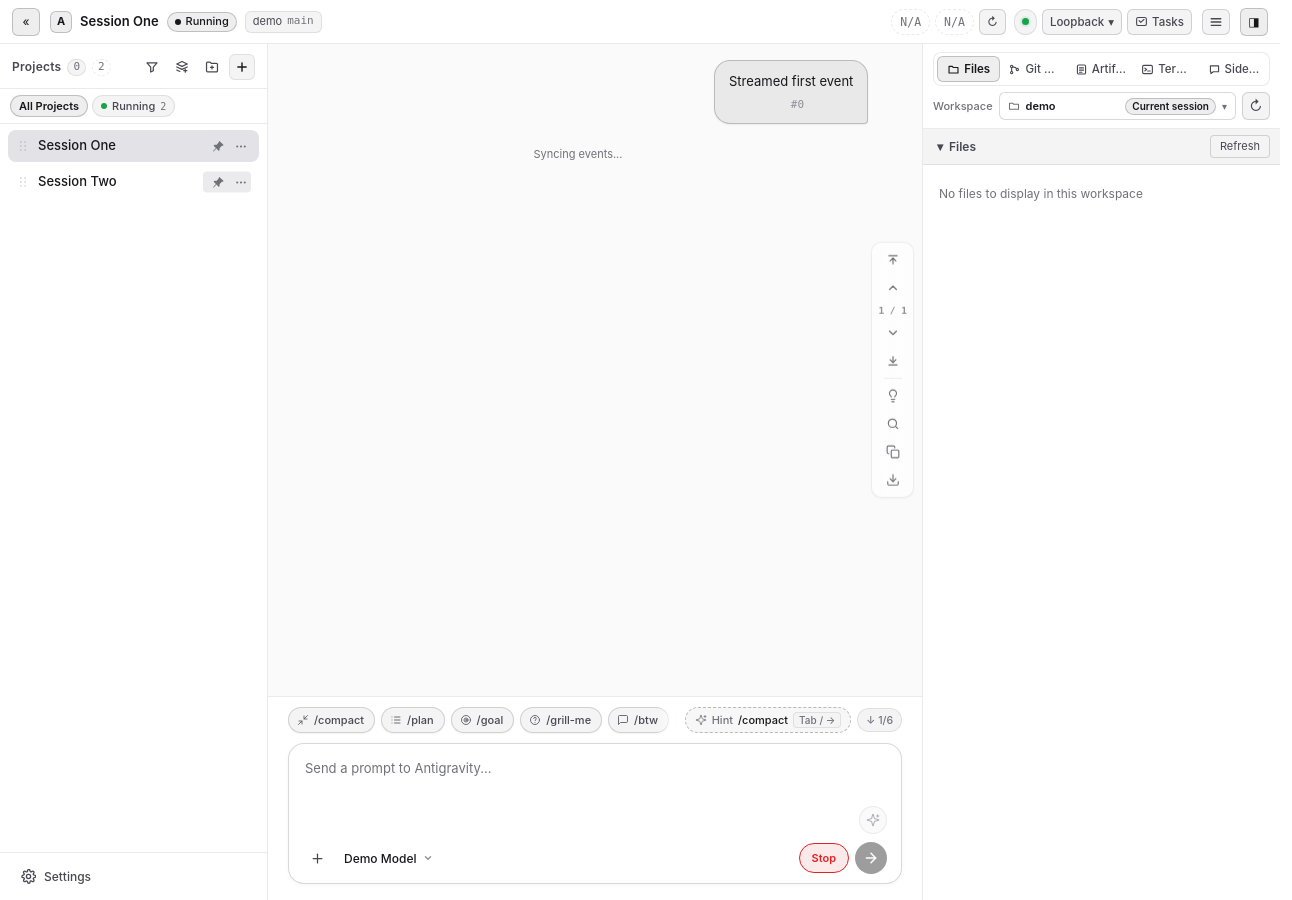
Test: App optimistic send flow › aborts stale getSessionDetail on session switch, supports timeout retry, and clears skeleton on SSE delta
The width and height of the screenshot is (1292, 900).
Expected: the element with test id "session-stream-loading" is shown, [534,60,868,161]
Expected: the element with test id "session-event-0" shows "Streamed first event", [729,73,853,89]
Note: Switching to sess-2 aborts sess-1's in-flight detail request
Click the button "Session Two". click: (140, 182)
box: [38,173,243,191]
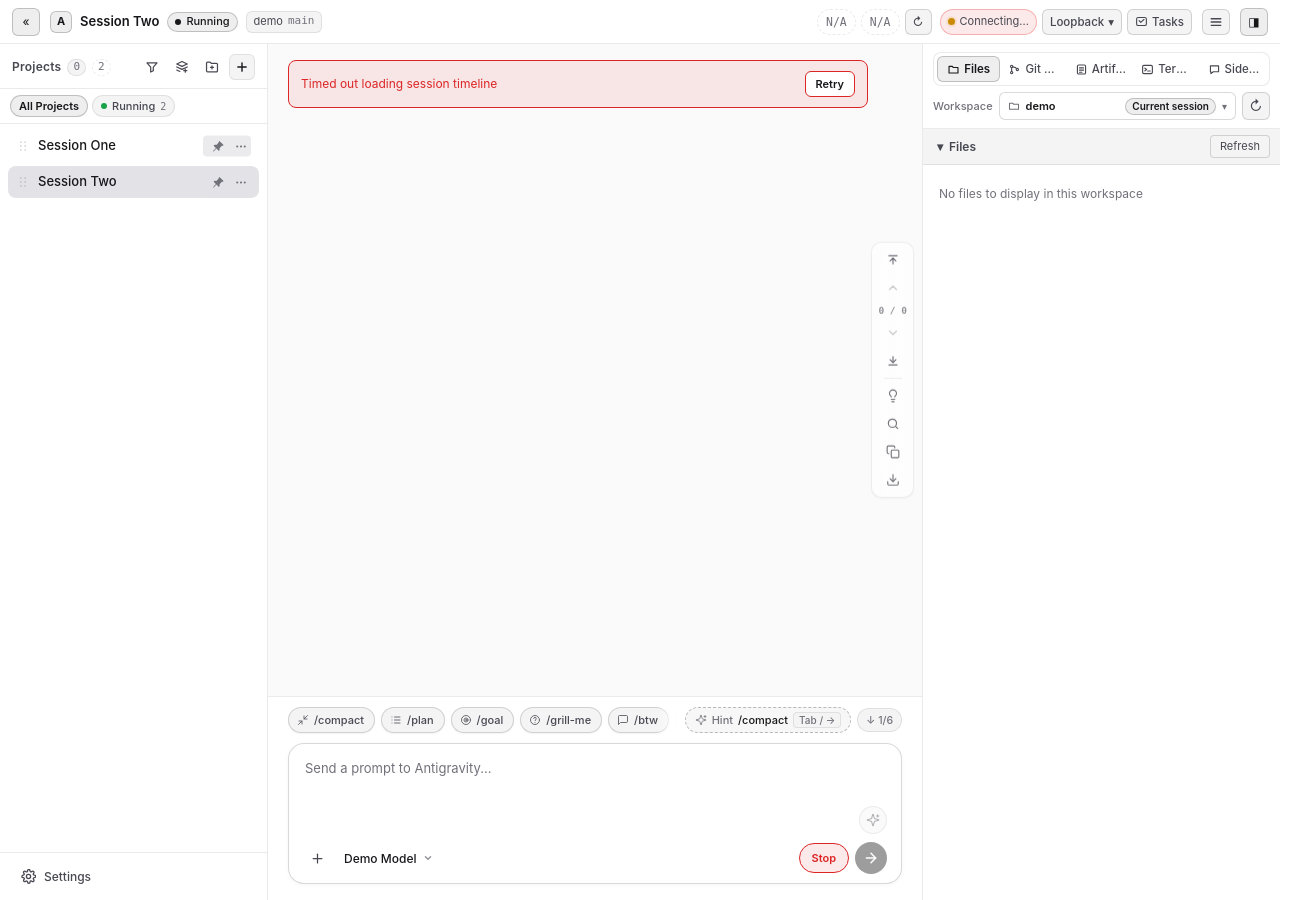
Expected: the message with test id "session-stream-error" shows "Timed out loading session timeline", [301,76,497,91]
Click the button with test id "session-stream-retry-btn". click: (830, 84)
box: [805,71,855,97]
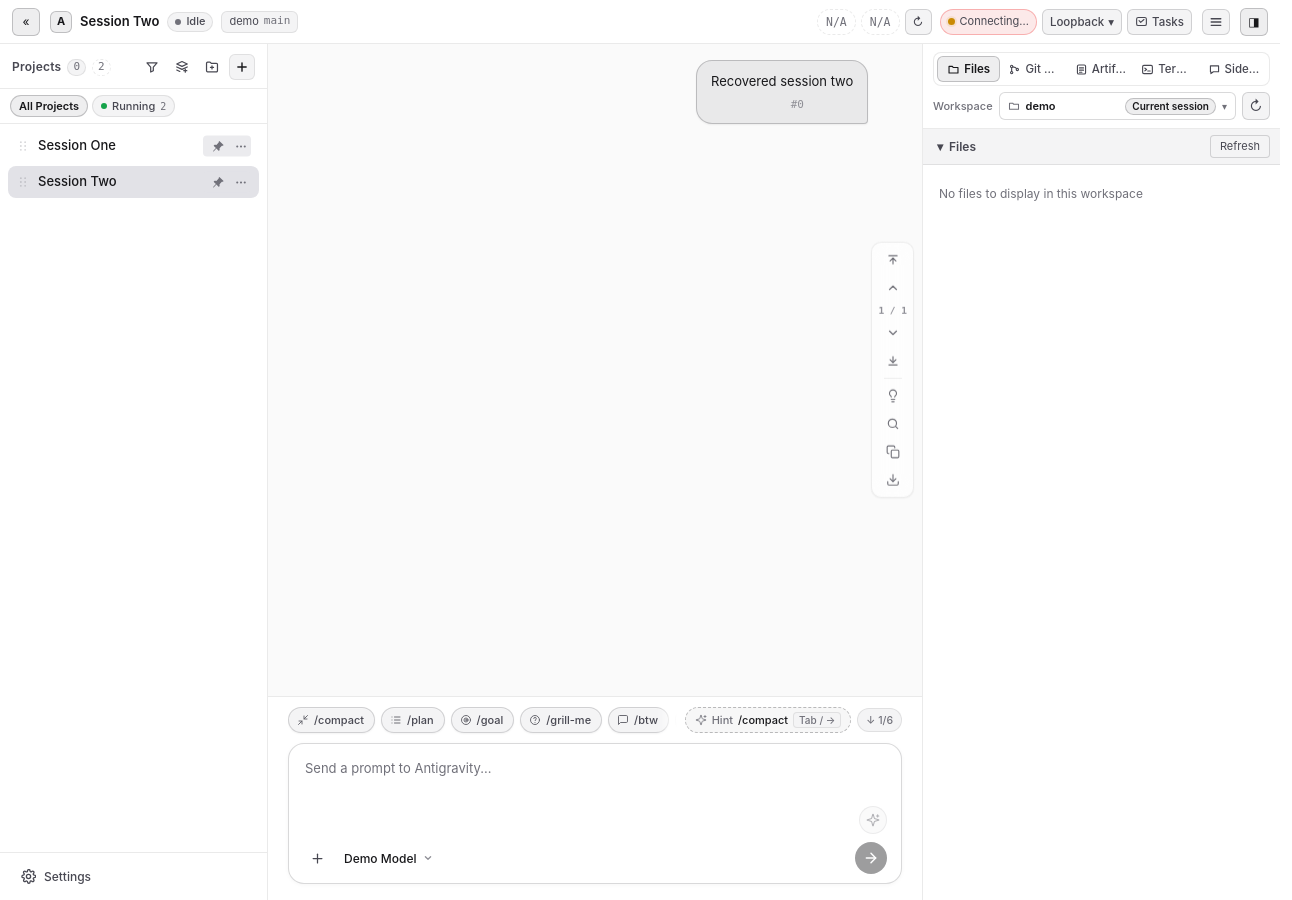
Expected: the element with test id "session-event-0" shows "Recovered session two", [711,73,853,89]
